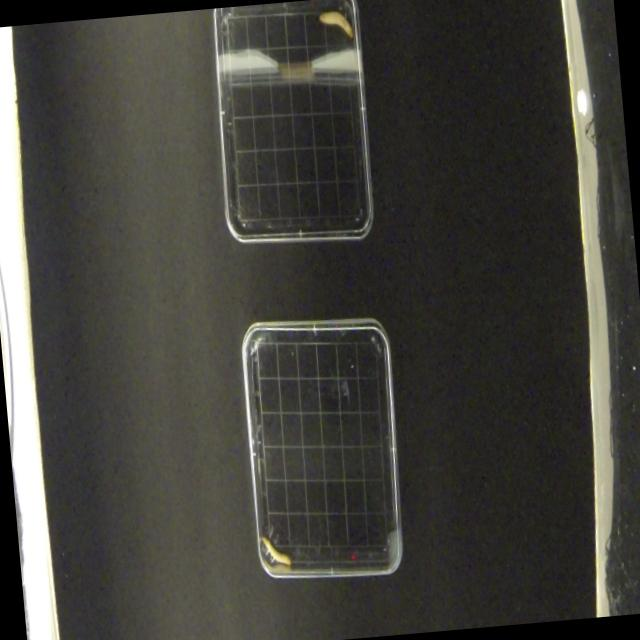larva: (317, 7, 353, 41), (263, 530, 292, 566)
